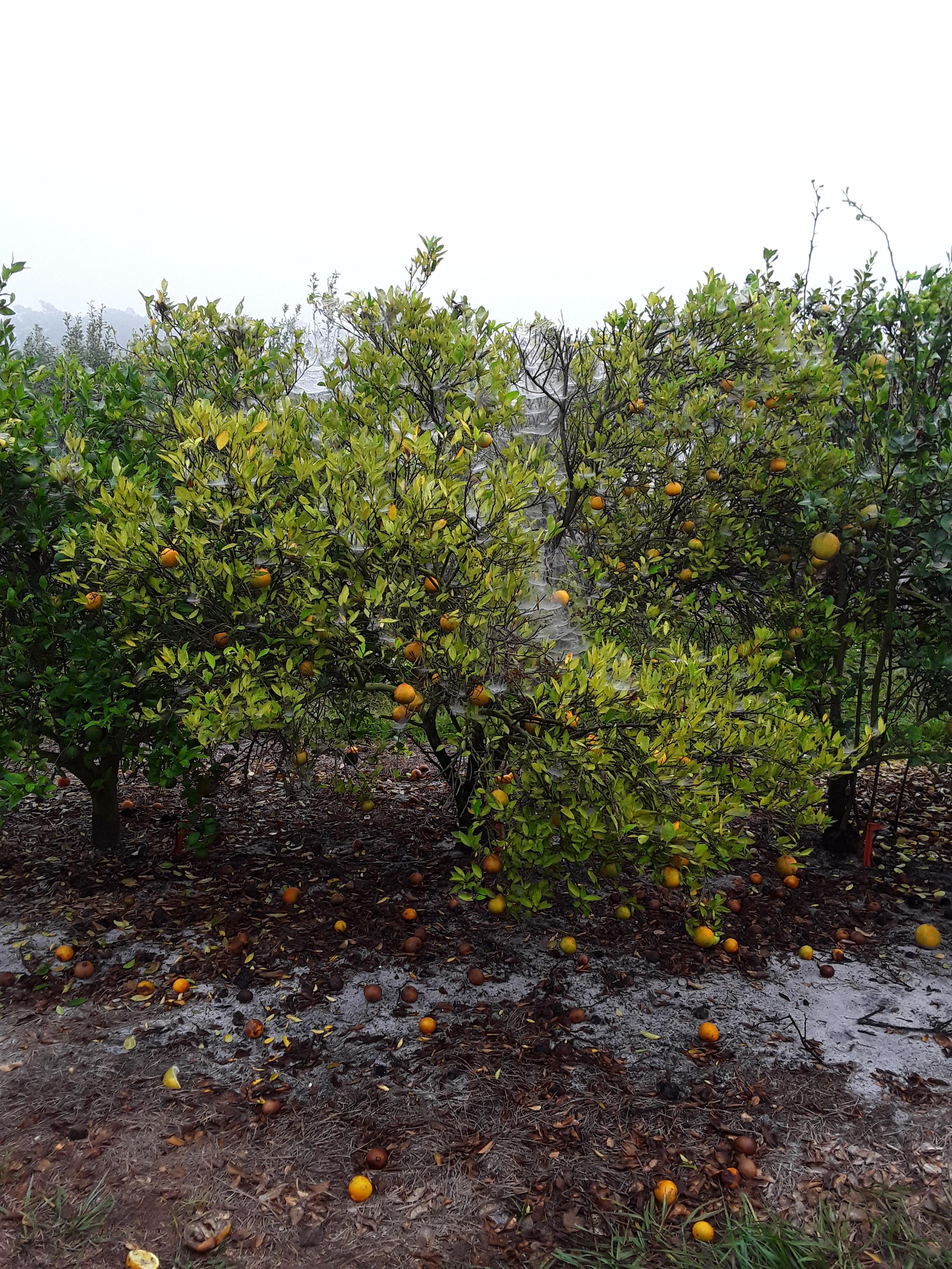fruit_on_ground: (810, 530, 841, 560), (856, 501, 885, 530), (863, 352, 889, 378), (157, 545, 184, 570), (691, 923, 716, 949), (247, 565, 273, 590), (774, 853, 800, 877), (79, 588, 105, 612), (437, 609, 462, 633), (469, 683, 493, 707), (480, 851, 504, 875), (401, 639, 426, 662), (392, 681, 417, 704), (11, 667, 35, 690), (559, 706, 582, 729), (116, 631, 140, 653), (486, 892, 508, 916), (10, 470, 35, 491), (660, 866, 682, 889), (299, 608, 323, 629), (194, 777, 218, 798), (82, 722, 106, 743), (488, 787, 511, 808), (665, 816, 687, 837), (422, 573, 444, 594), (404, 691, 426, 711), (211, 628, 233, 648), (649, 745, 669, 766), (599, 860, 620, 880), (473, 429, 494, 449), (298, 657, 318, 678), (583, 731, 604, 750), (521, 715, 542, 734), (550, 587, 571, 606), (768, 455, 789, 474), (61, 744, 83, 762), (705, 498, 725, 517), (613, 902, 633, 921), (546, 809, 565, 829), (587, 739, 606, 759), (391, 703, 411, 722), (627, 395, 647, 414), (290, 747, 310, 766), (734, 640, 755, 658), (775, 547, 795, 565), (786, 624, 806, 642), (674, 752, 695, 769), (806, 554, 827, 571), (670, 852, 691, 869), (717, 375, 736, 393), (665, 479, 684, 497), (587, 493, 606, 511), (191, 845, 211, 862), (839, 521, 859, 538), (778, 647, 796, 665), (704, 466, 723, 483), (52, 551, 71, 568), (740, 395, 760, 411), (159, 774, 179, 790), (816, 301, 834, 318), (762, 393, 779, 411), (644, 601, 661, 618), (779, 388, 796, 405), (358, 796, 375, 812), (343, 750, 359, 767), (428, 668, 444, 684), (644, 546, 661, 561), (679, 517, 696, 532), (678, 566, 695, 581), (578, 518, 593, 534), (687, 536, 703, 551), (623, 482, 638, 497), (614, 559, 628, 573), (638, 479, 651, 493), (500, 773, 512, 785), (492, 774, 504, 785)
fruit_on_tree: (346, 1173, 375, 1205), (651, 1176, 679, 1207), (125, 1245, 161, 1269), (913, 922, 943, 950), (363, 1144, 391, 1171), (690, 1218, 716, 1243), (161, 1065, 184, 1092), (697, 1020, 721, 1045), (716, 1167, 742, 1190), (735, 1156, 761, 1178), (733, 1134, 758, 1156), (281, 884, 303, 906), (72, 959, 95, 980), (243, 1017, 265, 1038), (416, 1014, 438, 1035), (260, 1096, 283, 1116), (54, 941, 76, 961), (224, 935, 247, 954), (465, 966, 486, 986), (362, 982, 383, 1002), (559, 935, 578, 956), (326, 975, 346, 994), (400, 984, 419, 1003), (402, 935, 422, 953), (847, 930, 868, 947), (236, 986, 255, 1004), (232, 929, 252, 946), (68, 1124, 88, 1141), (135, 978, 155, 995), (797, 943, 815, 961), (568, 1005, 586, 1023), (722, 936, 740, 954), (892, 868, 911, 885), (0, 969, 17, 988), (171, 976, 190, 993), (818, 962, 836, 979), (642, 948, 662, 963), (765, 885, 785, 899), (446, 895, 463, 911), (456, 939, 473, 955), (55, 773, 72, 789), (408, 869, 425, 885), (782, 873, 800, 888), (834, 925, 850, 941), (333, 917, 349, 933), (329, 890, 346, 905), (218, 861, 235, 876), (575, 951, 592, 966), (646, 896, 662, 911), (414, 923, 430, 938), (726, 897, 742, 912), (401, 906, 417, 921), (830, 946, 845, 961), (119, 797, 135, 811), (121, 892, 136, 906), (350, 837, 365, 851), (749, 870, 764, 884), (409, 767, 423, 781), (150, 801, 164, 811), (347, 745, 360, 755), (416, 763, 430, 772)
